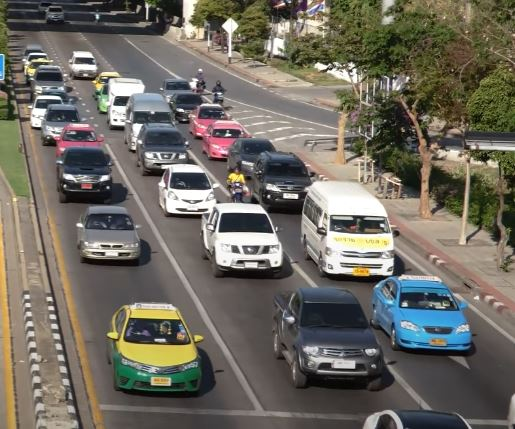Bus: (298, 178, 396, 278)
Car: (271, 286, 384, 392), (106, 300, 204, 394), (371, 274, 473, 354), (199, 202, 284, 273), (75, 204, 142, 261), (253, 151, 314, 208), (55, 146, 114, 202), (157, 163, 217, 215), (135, 122, 190, 175), (124, 94, 174, 146), (107, 78, 145, 128), (228, 137, 277, 175), (39, 104, 82, 144), (55, 123, 105, 155), (203, 121, 244, 160), (190, 103, 228, 138), (27, 65, 66, 98), (28, 95, 65, 127), (67, 50, 98, 80), (172, 93, 202, 122), (46, 5, 65, 24)
Motorcycle: (224, 162, 250, 203), (191, 67, 208, 95), (211, 80, 227, 106)
